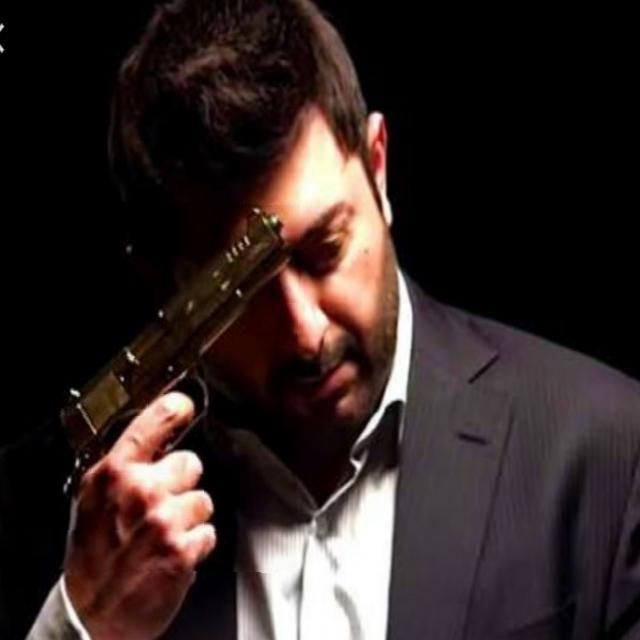handgun: (54, 202, 298, 572)
